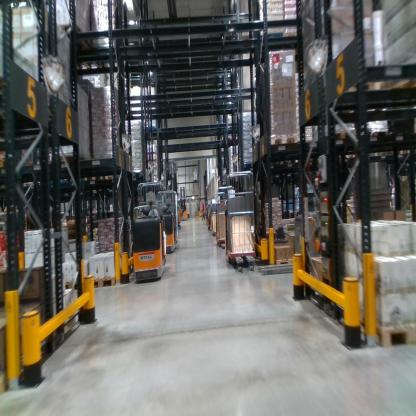forklift: (179, 182, 188, 222)
pallet: (346, 63, 414, 106), (347, 308, 415, 348), (54, 21, 96, 52), (66, 41, 99, 76), (83, 273, 123, 291), (263, 132, 299, 151), (54, 277, 82, 299), (324, 130, 359, 144), (363, 128, 389, 142), (82, 171, 104, 183), (48, 175, 66, 188), (106, 173, 122, 183), (64, 177, 83, 185), (195, 215, 200, 219)
pallet_truck: (124, 174, 173, 286), (154, 185, 178, 254), (168, 185, 182, 232)
